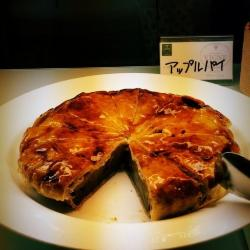apple_pie: (24, 77, 240, 227)
